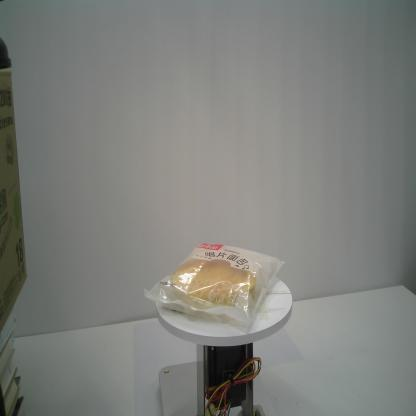Dessert: (144, 239, 287, 332)
